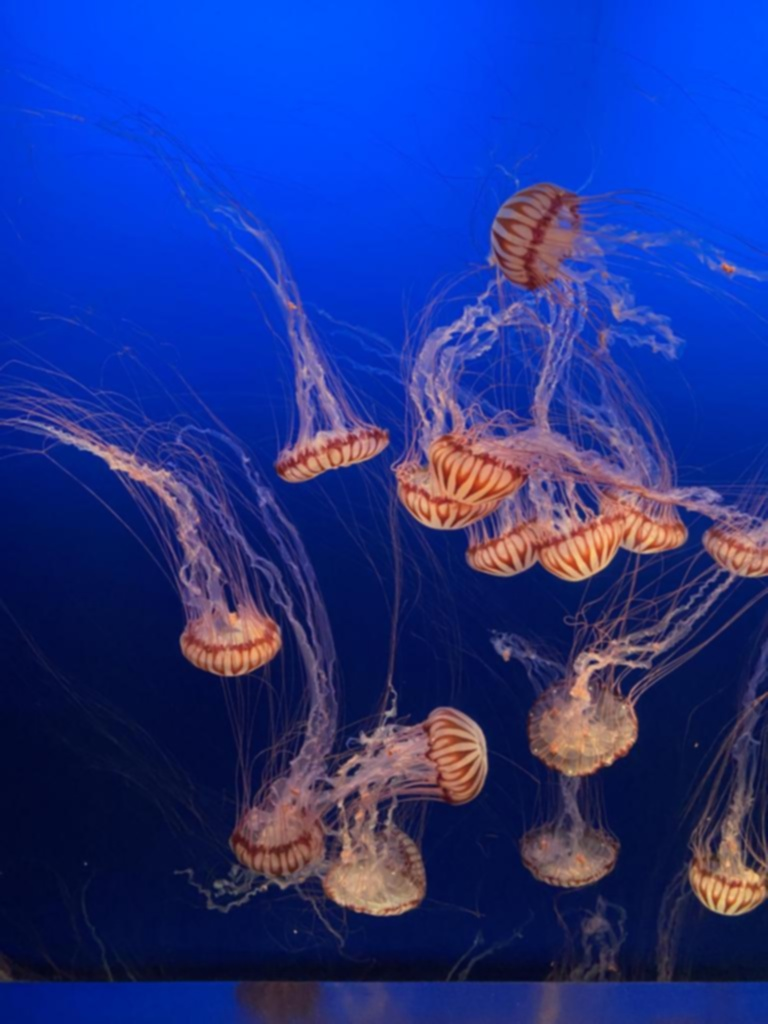jellyfish: (528, 676, 634, 776), (320, 822, 425, 914), (491, 184, 581, 290), (182, 608, 280, 678), (274, 424, 388, 482), (397, 466, 495, 532), (429, 434, 529, 498), (427, 704, 488, 806), (539, 512, 625, 582), (521, 826, 617, 888), (232, 809, 318, 875), (598, 492, 686, 554), (468, 514, 552, 578), (689, 858, 767, 916), (702, 524, 768, 580)
